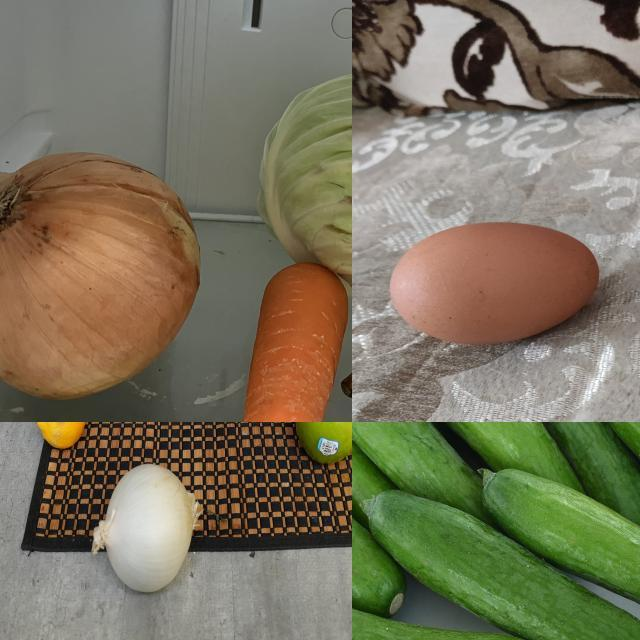cabbage: (255, 60, 353, 314)
carrot: (231, 260, 352, 423)
cucumber: (360, 489, 640, 640), (480, 464, 640, 640), (475, 423, 640, 548), (361, 423, 586, 497), (353, 575, 551, 640), (576, 423, 640, 618), (353, 423, 406, 616)
egg: (383, 221, 604, 350)
onion: (1, 149, 204, 401), (94, 465, 206, 603)
